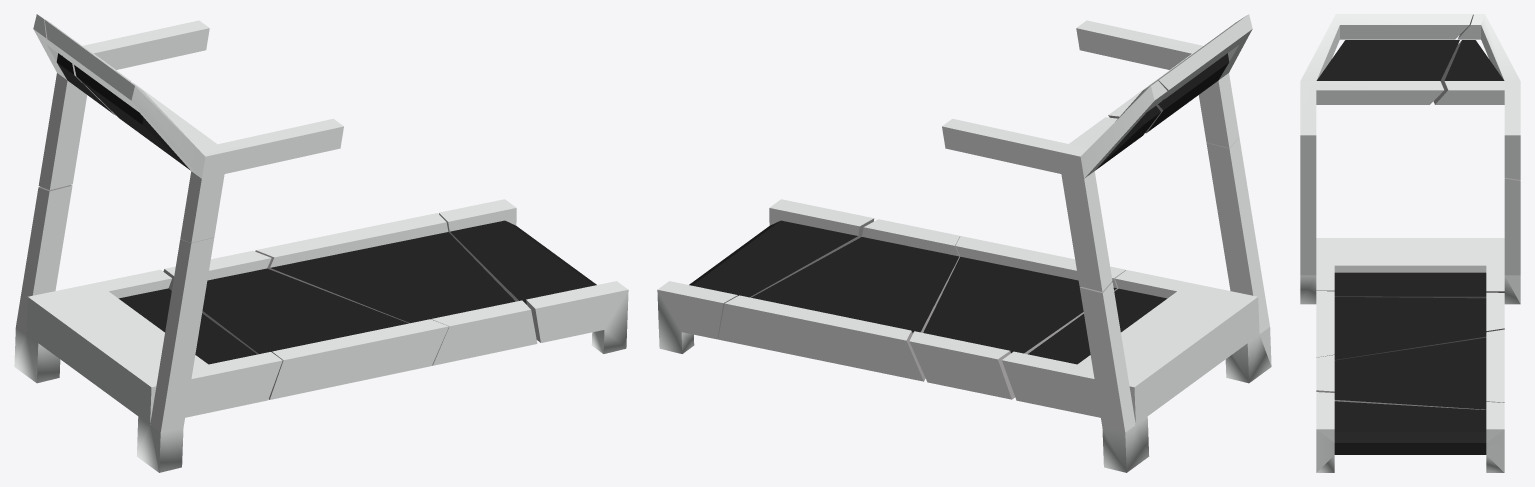
Rendered from May_chay_DEST.fbx.
3 views of the same model, side by side, from view 1: azimuth 30°, elevation 25°; view 2: azimuth 150°, elevation 25°; view 3: azimuth 270°, elevation 25° (orthographic). The views are drawn at different scales.
Parts seen in each view (by area): view 1: Mesh_may_chay7.001, Mesh_may_chay7.004, Mesh_may_chay7.005, Mesh_may_chay7.003, Mesh_may_chay7, Mesh_may_chay7.002; view 2: Mesh_may_chay7.001, Mesh_may_chay7.004, Mesh_may_chay7.005, Mesh_may_chay7, Mesh_may_chay7.002, Mesh_may_chay7.003; view 3: Mesh_may_chay7.001, Mesh_may_chay7.003, Mesh_may_chay7.004, Mesh_may_chay7, Mesh_may_chay7.005, Mesh_may_chay7.002.
Part boxes in pixels (x1,y1,x2,y2): Mesh_may_chay7.001: (14,185,282,472); Mesh_may_chay7.004: (255,213,537,365); Mesh_may_chay7.005: (163,250,448,399); Mesh_may_chay7.003: (44,20,343,242); Mesh_may_chay7: (439,199,628,353); Mesh_may_chay7.002: (33,14,209,189); Mesh_may_chay7.001: (1002,137,1271,472); Mesh_may_chay7.004: (718,219,960,381); Mesh_may_chay7.005: (909,236,1125,399); Mesh_may_chay7: (657,199,874,353); Mesh_may_chay7.002: (942,81,1167,291); Mesh_may_chay7.003: (1076,14,1252,148); Mesh_may_chay7.001: (1300,150,1520,304); Mesh_may_chay7.003: (1300,14,1472,149); Mesh_may_chay7.004: (1316,329,1504,409); Mesh_may_chay7: (1316,392,1504,472); Mesh_may_chay7.005: (1316,291,1504,360); Mesh_may_chay7.002: (1433,14,1520,179).
Bounding box in the file's own units: 13.03 × 9.52 × 6.75.
